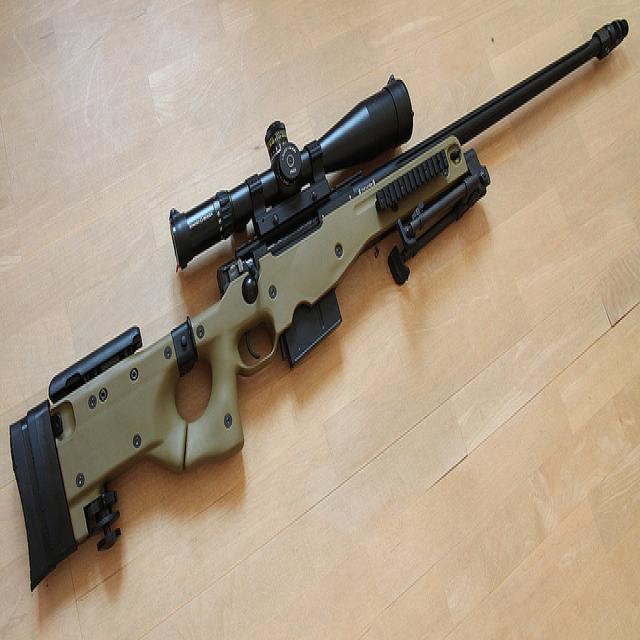rifle: (4, 12, 634, 580)
